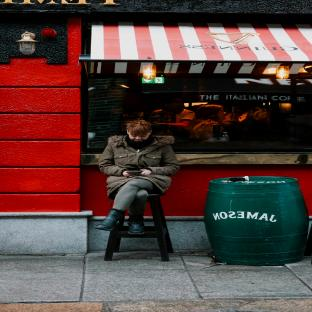Human: (95, 120, 180, 235)
